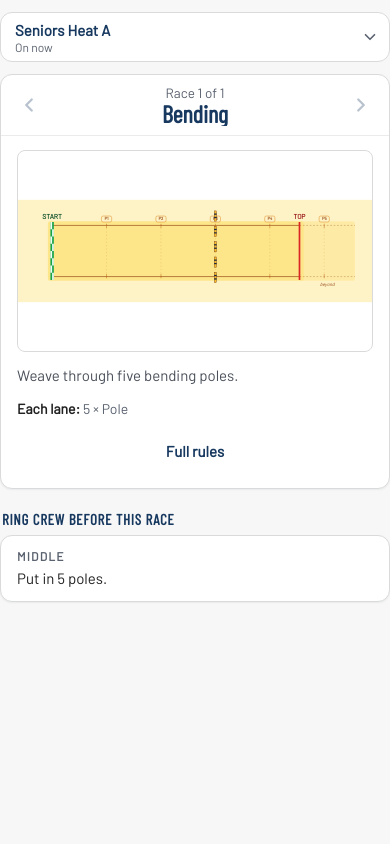
opens the rules sheet from Full rules
Expected: the text "Weave through five bending poles." is shown, [17,366,238,384]
Click the button "Full rules" at (195, 452), box [164,430,226,474]
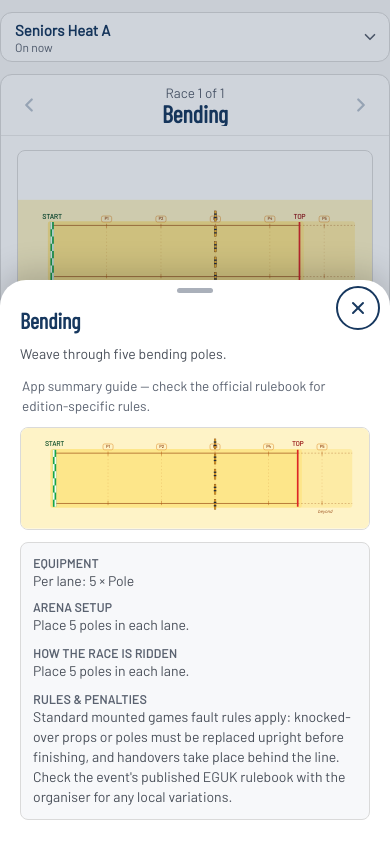
Expected: the heading "Bending" is shown, [20,307,80,333]
